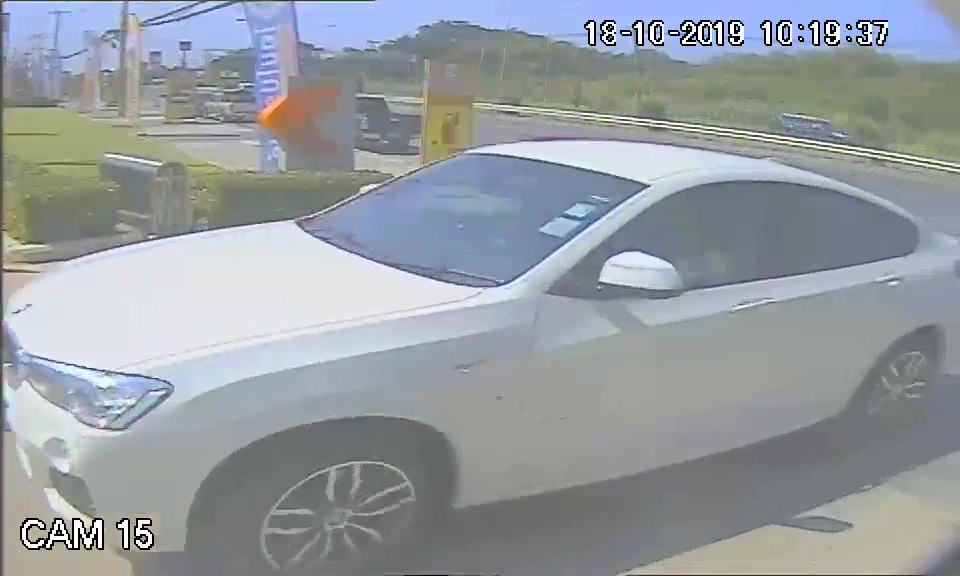sedan: (3, 134, 921, 518)
